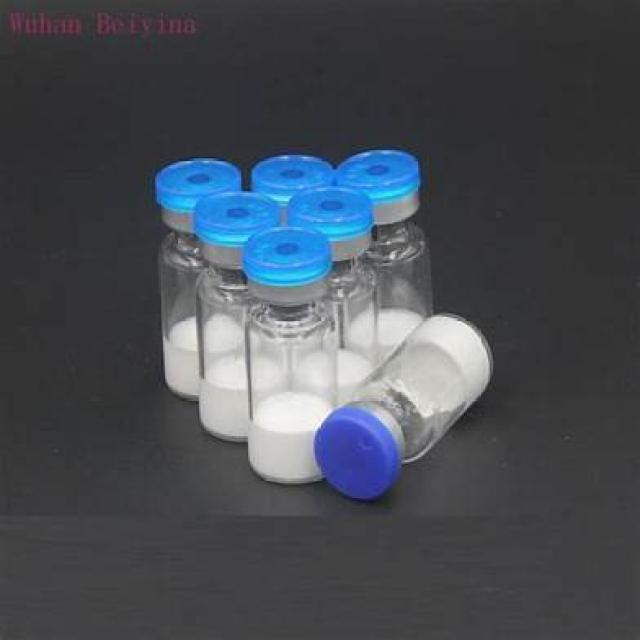vial: (322, 406, 396, 493), (247, 232, 326, 280), (332, 147, 415, 190), (291, 186, 365, 230), (248, 156, 338, 190), (160, 166, 230, 208), (200, 194, 272, 234)
